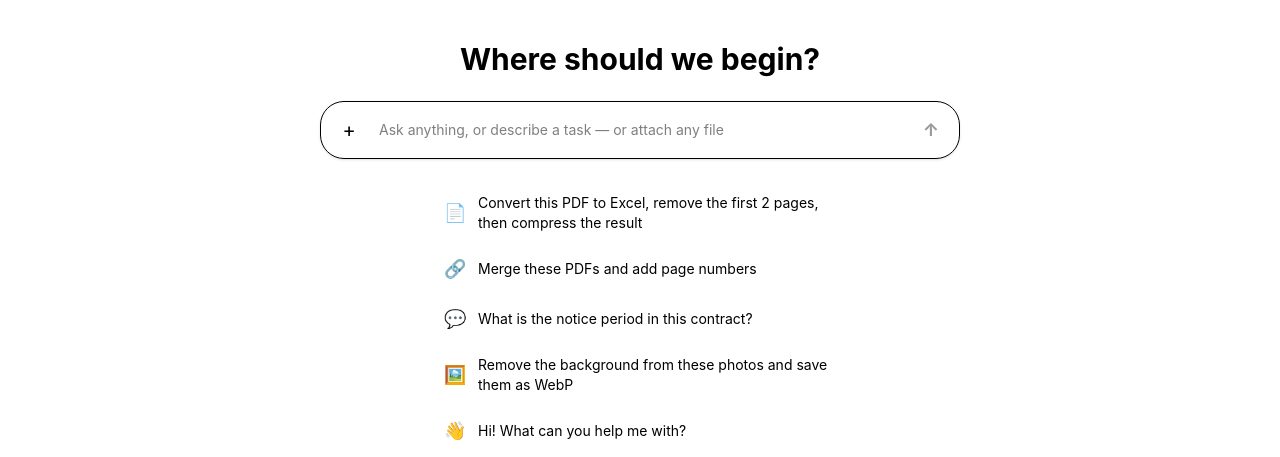
Test: the assistant workspace › turns the address in an out-of-credits reply into a link
Type "hi" into the text box with test id "assistant-request" at (640, 130), box [375, 110, 905, 150]
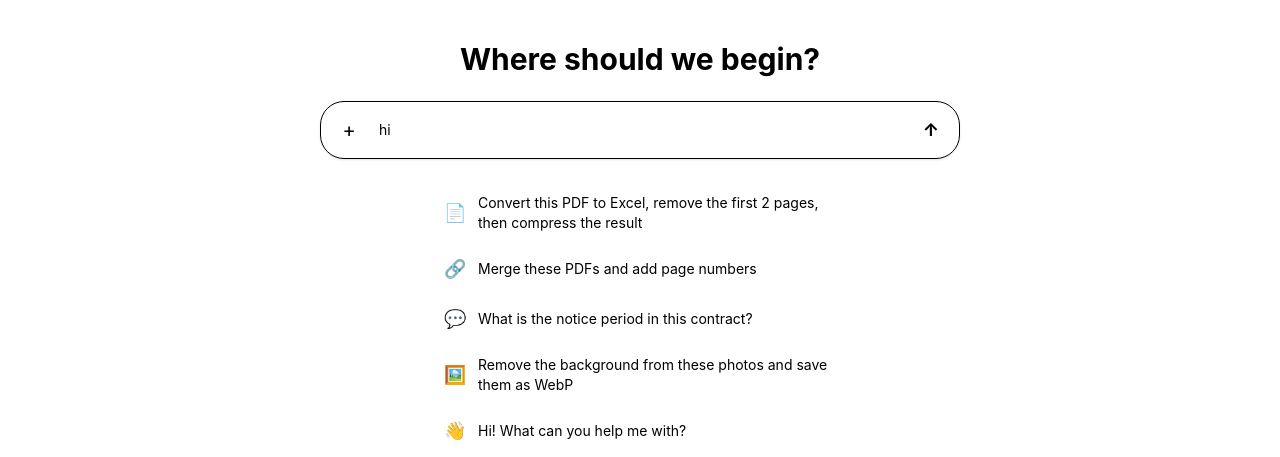
Click the button named "send" at (931, 130), box [911, 110, 951, 150]
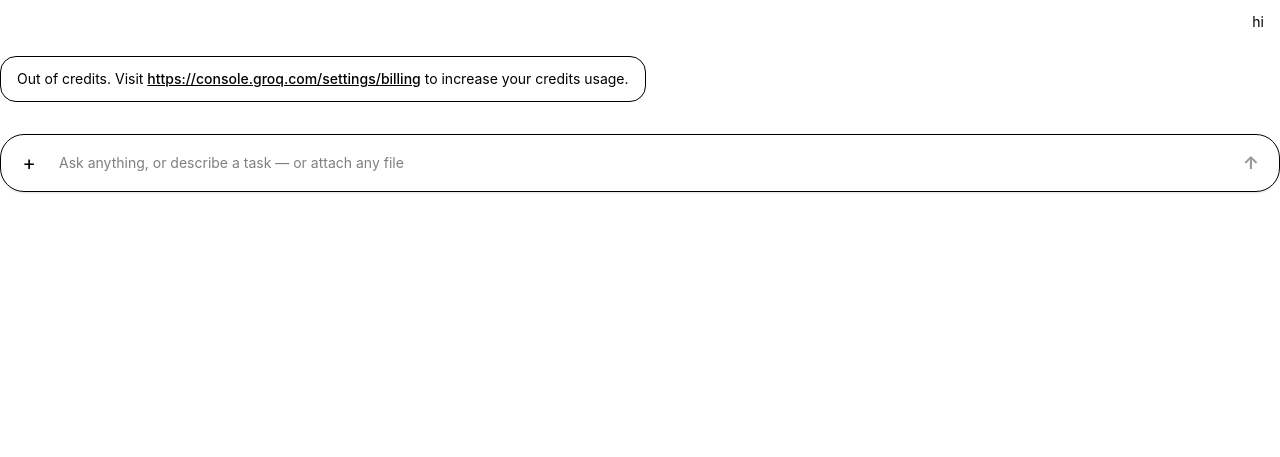
Now the text "to increase your credits usage." is shown, box [421, 70, 629, 87]
